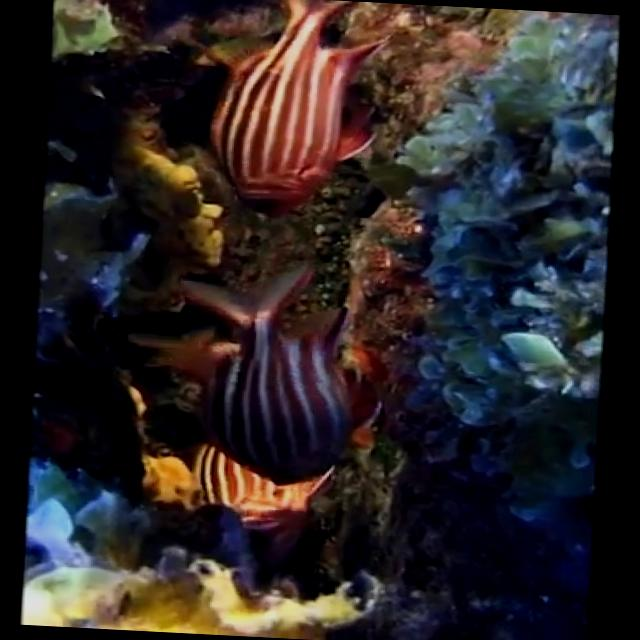Asker Baligi: (162, 254, 390, 493), (199, 0, 395, 226)
